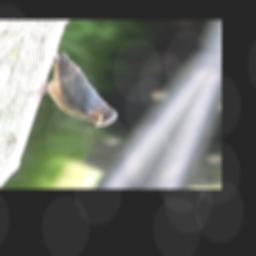Swallow: (14, 49, 148, 130)
